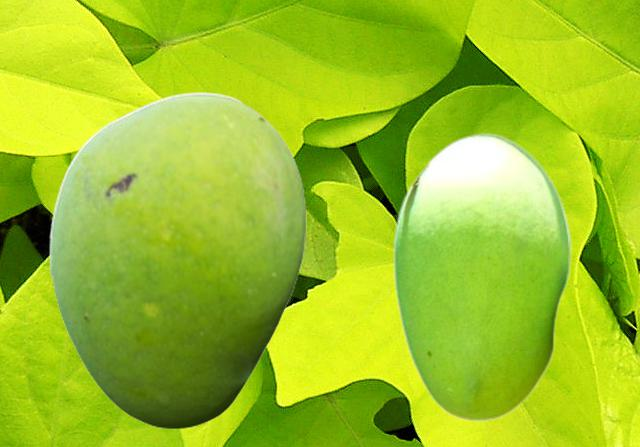green_mango: (48, 91, 305, 428), (392, 132, 570, 420)
